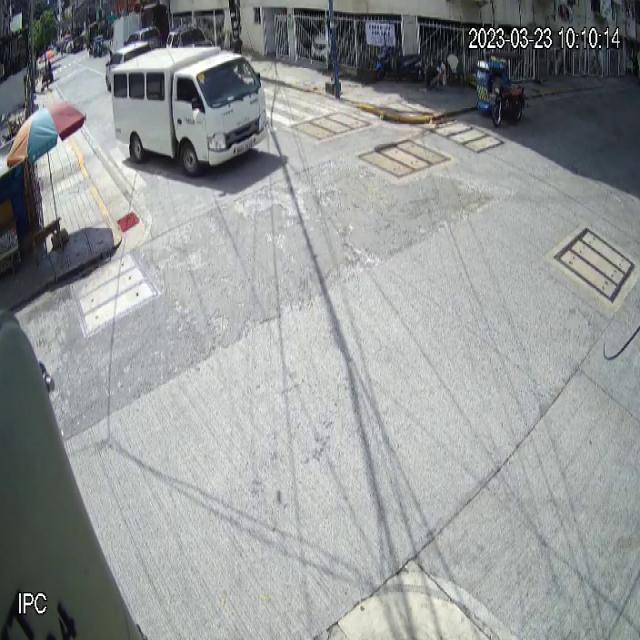Van: (112, 46, 268, 176)
